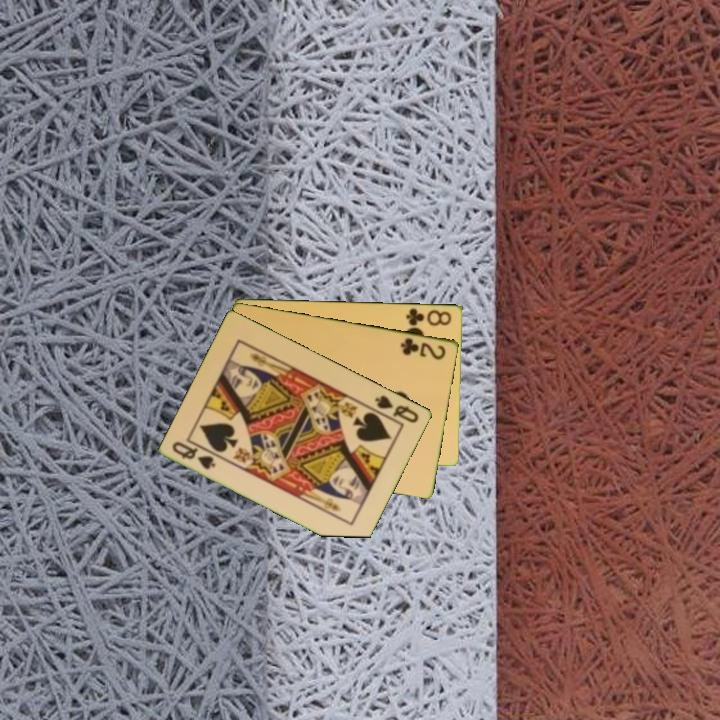2c: (397, 334, 449, 362)
8c: (403, 304, 454, 328)
Qs: (372, 391, 422, 426), (169, 438, 218, 472)
